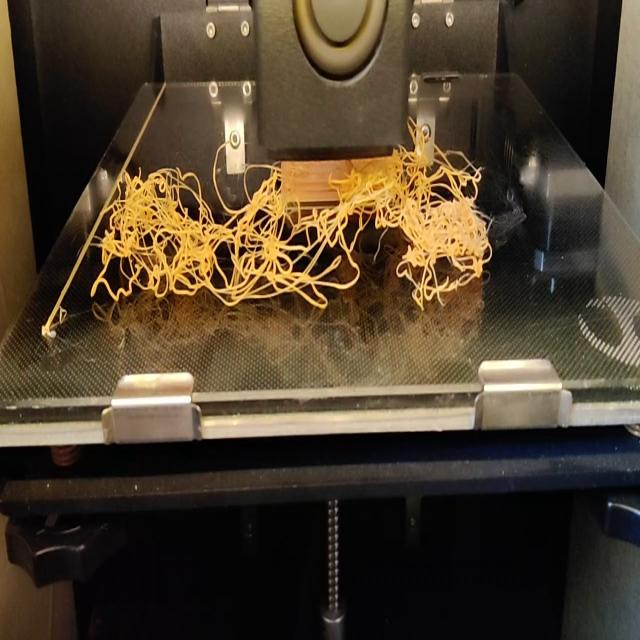spaghetti: (83, 155, 494, 297), (400, 126, 454, 153)
